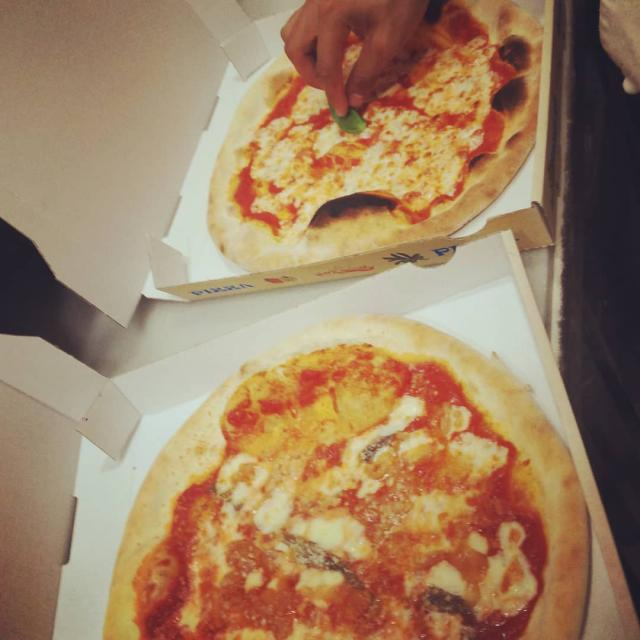basil: (328, 102, 368, 134)
pizza: (101, 314, 591, 640), (204, 0, 544, 274)
